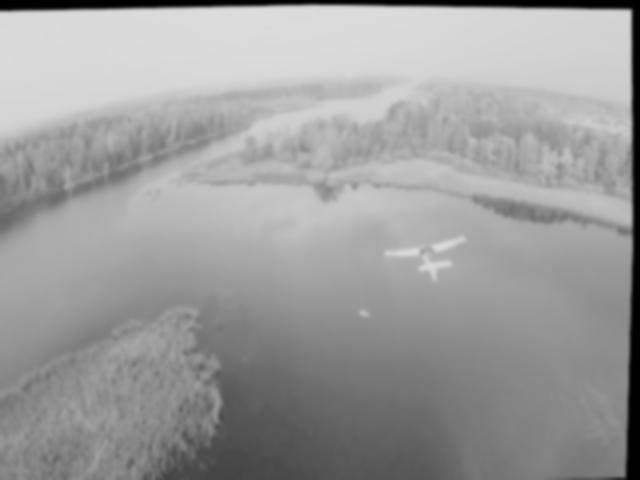hedef: (389, 229, 471, 285)
